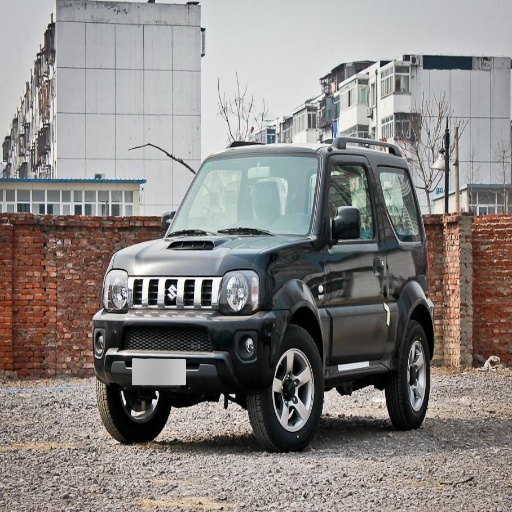front_bumper: (93, 272, 285, 387)
front_glass: (169, 154, 320, 235)
front_left_door: (326, 158, 385, 361)
